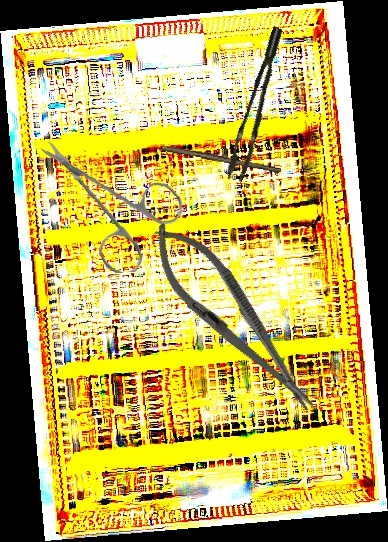Iris Scissors: (39, 133, 188, 278)
Needle Holder: (135, 209, 331, 428)
Scalpel Handle: (160, 143, 282, 174)
Tissue Forceps: (212, 26, 303, 184)
